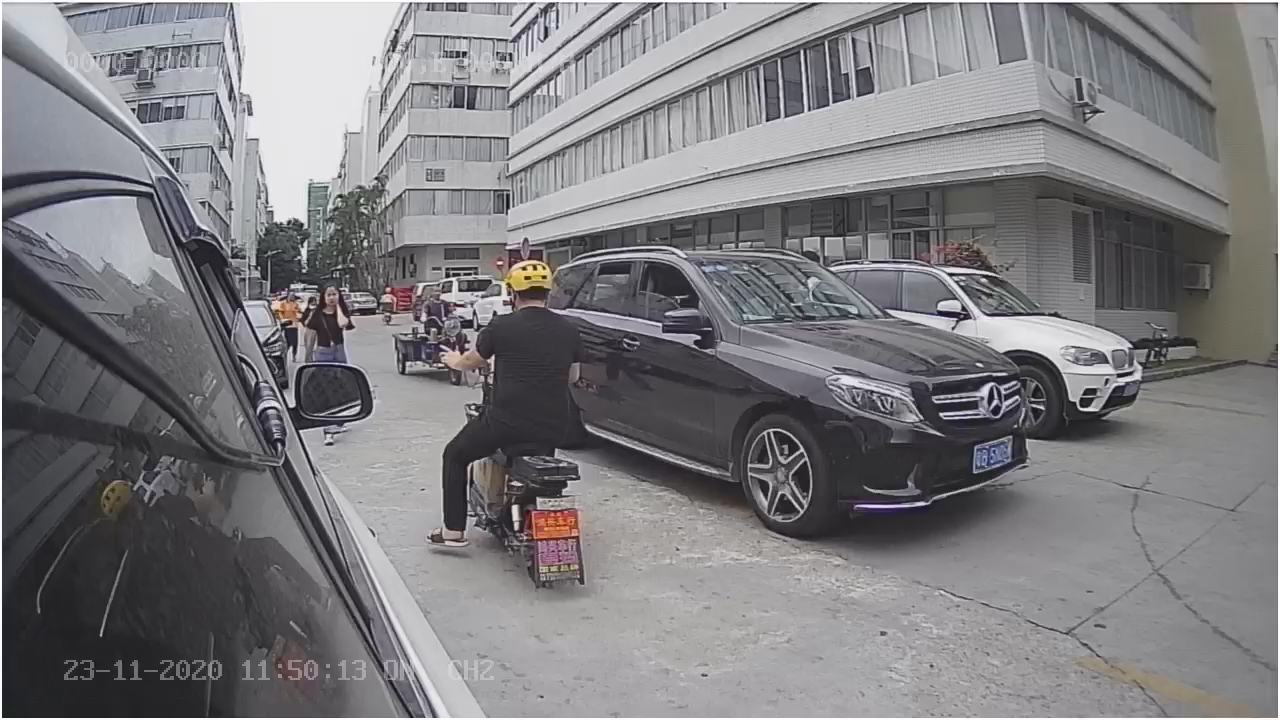person: (434, 248, 584, 391)
